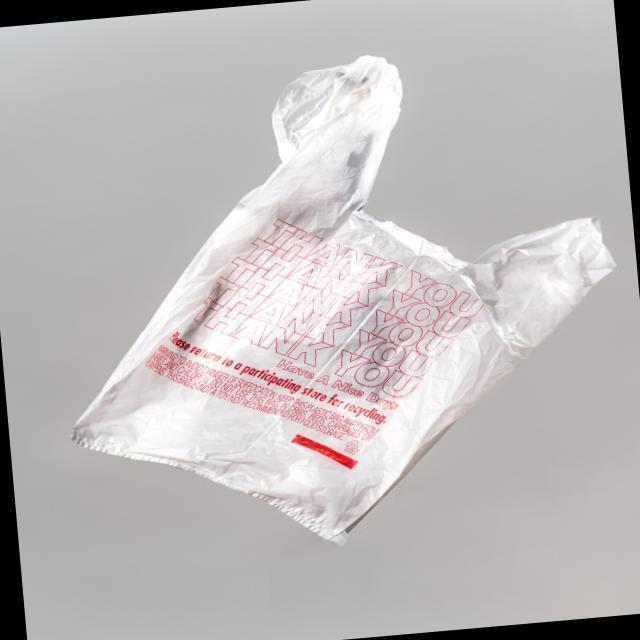Plastic_Bag: (61, 47, 580, 564)
